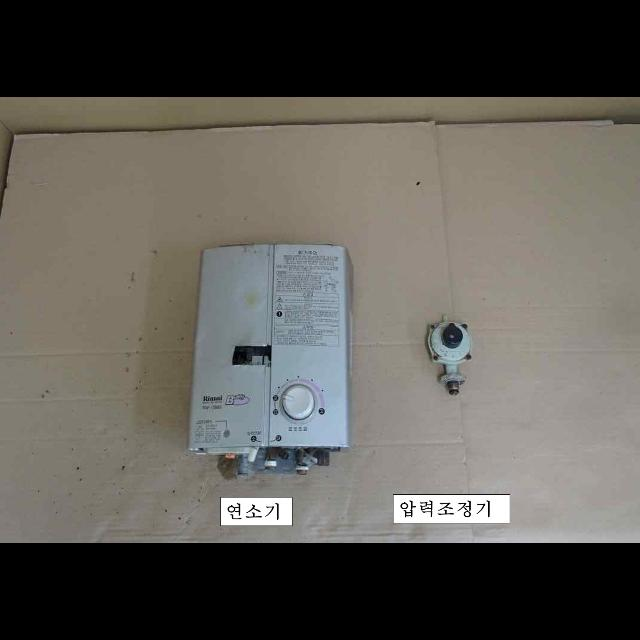Boiler: (176, 220, 370, 490)
